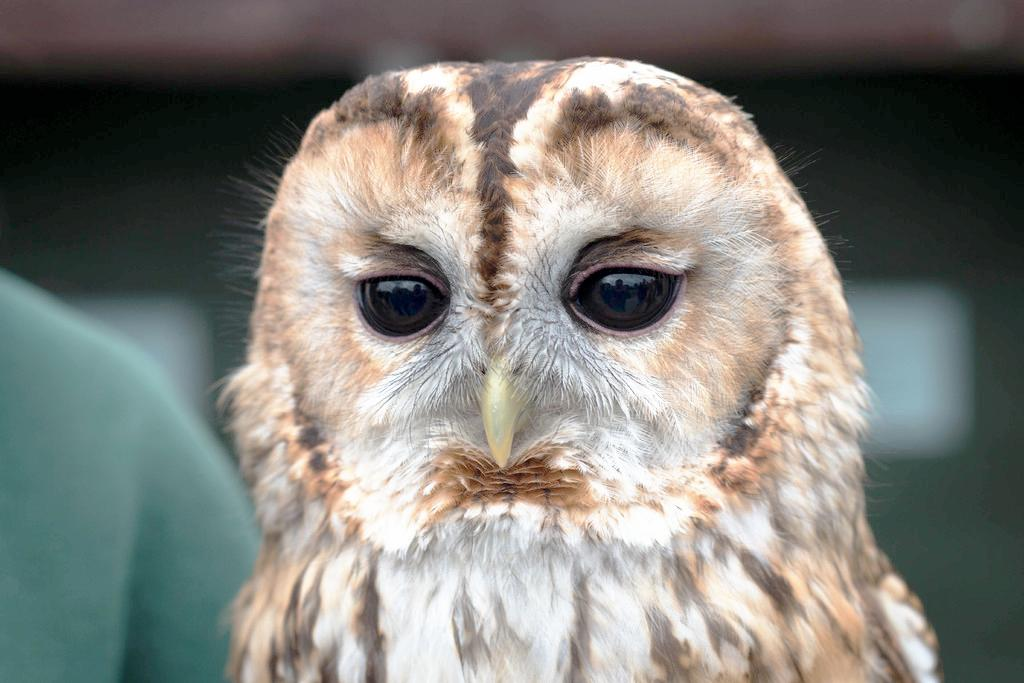Owl: (204, 52, 940, 682)
